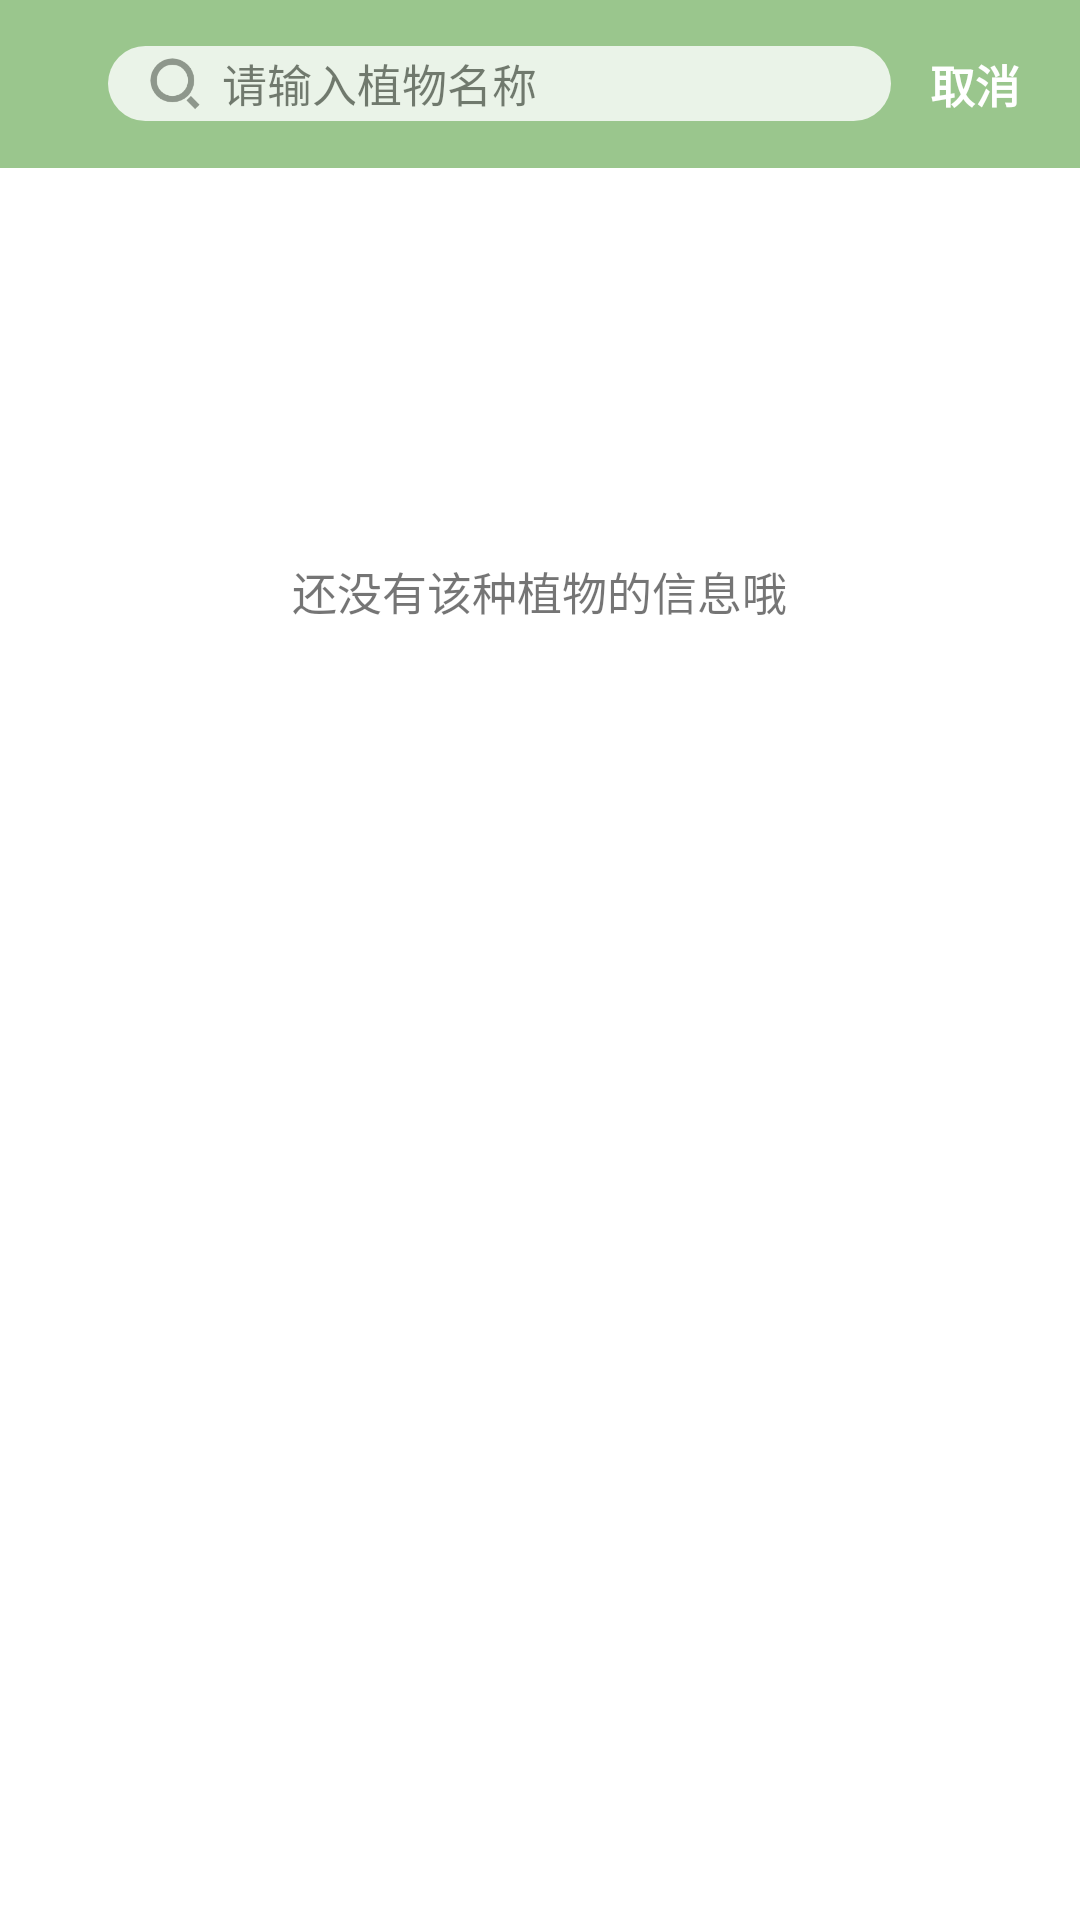

Locate icon controls on the screen. Image size 1080 × 1920, boxes as (x1, y1, x2, y2).
search: (150, 58, 199, 109)
